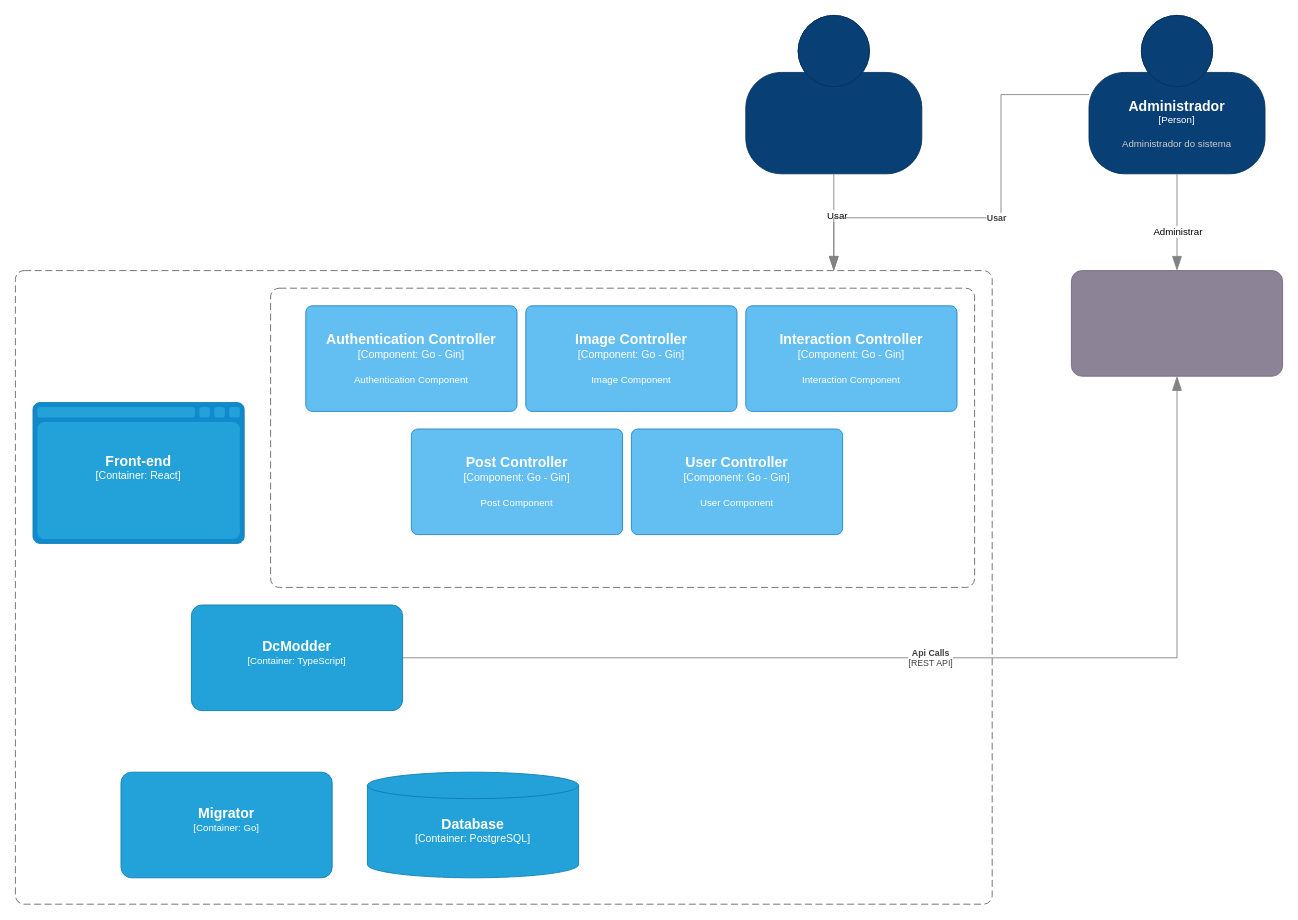
The diagram is 1298 pixels wide and 920 high, and some of its shapes have lost their labels. Here are the shapes that lost their labels. From the top down, the box of each, then its label:
(745, 15, 922, 174): Usuário [Person] Usuário do sistema
(1071, 270, 1283, 376): Discord [Software System] Sistema de administração
(270, 287, 975, 587): FactUp [Back-end]
(15, 270, 992, 904): Nginx [Reverse Proxy]
